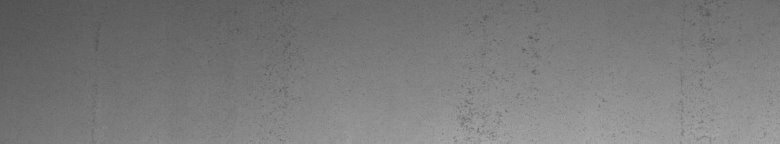ib: (458, 15, 539, 136)
